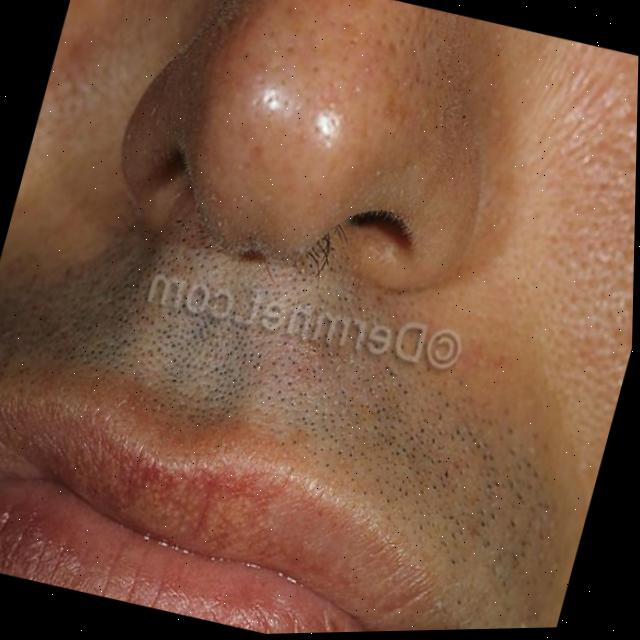Rosacea: (115, 439, 291, 561)
